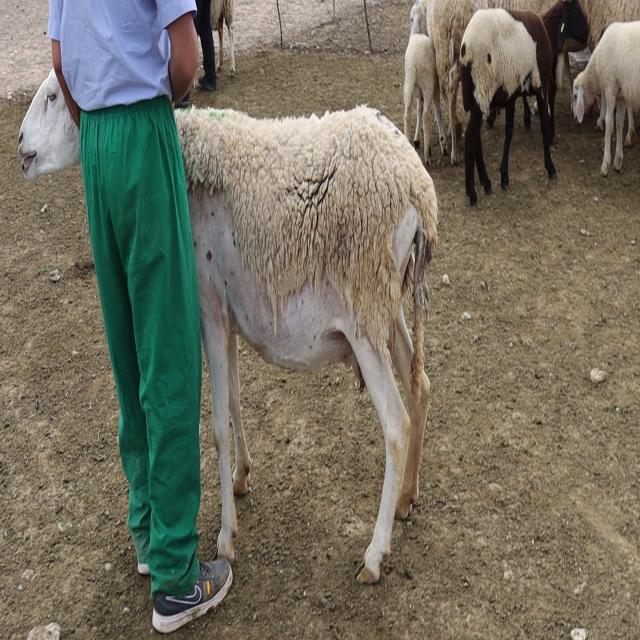Score_2: (175, 105, 438, 583)
